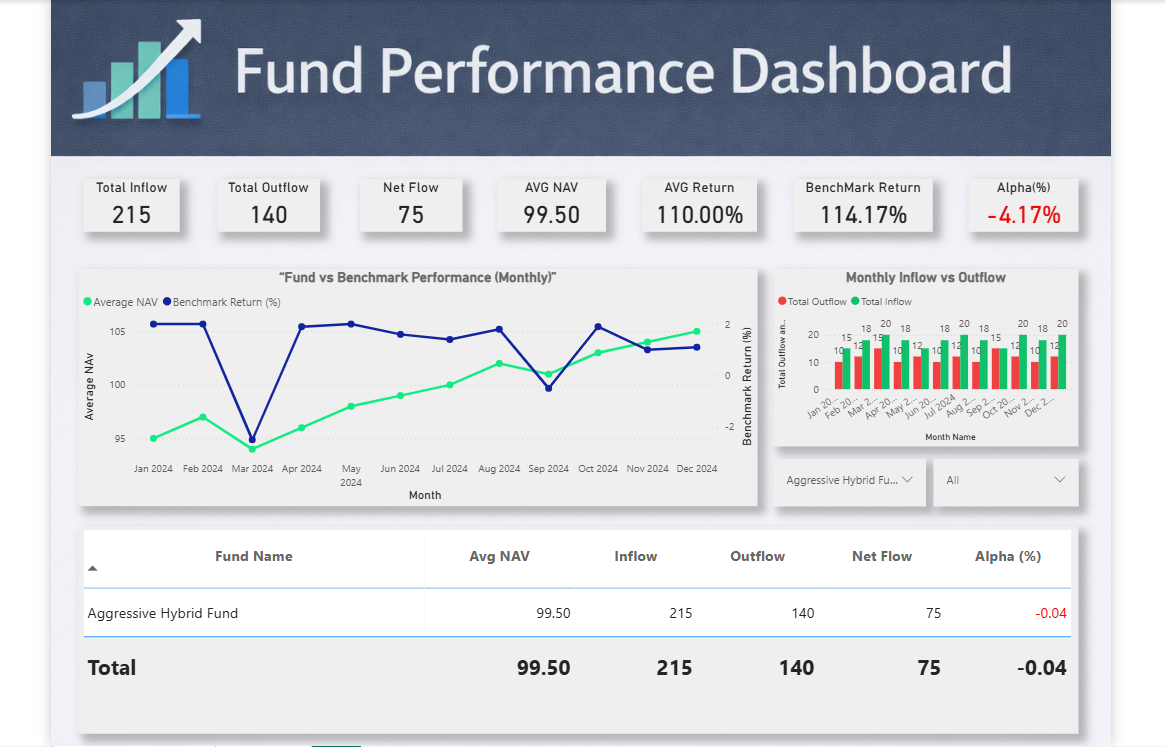

This screenshot's page, from the dashboard's own definition file:
{"tool":"powerbi","page":{"name":"Fund Dashboard","canvas":[1280,900],"ordinal":0},"visuals":[{"type":"card","title":"Total Inflow","fields":{"Values":["All_Measures.Total Inflow"]},"box":[38.8,216.4,116.2,63.8],"z":0},{"type":"card","title":"Total Outflow","fields":{"Values":["All_Measures.Total Outflow"]},"box":[201.3,216.4,123.8,63.8],"z":1000},{"type":"card","title":"Net Flow","fields":{"Values":["All_Measures.Net Flow"]},"box":[372.5,216.4,123.8,63.8],"z":2000},{"type":"card","title":"AVG NAV","fields":{"Values":["All_Measures.Average NAV"]},"box":[538.9,216.4,131.1,64.1],"z":3000},{"type":"card","title":"AVG Return","fields":{"Values":["All_Measures.Average Return (%)"]},"box":[713.5,216.4,138.3,64.1],"z":4000},{"type":"card","title":"BenchMark Return","fields":{"Values":["All_Measures.Benchmark Return (%)"]},"box":[895.2,216.4,168.2,64.1],"z":5000},{"type":"card","title":"Alpha(%)","fields":{"Values":["All_Measures.Alpha (%)"]},"box":[1106.9,216.4,132.6,64.1],"z":6000},{"type":"lineChart","title":"“Fund vs Benchmark Performance (Monthly)”","fields":{"Y":["All_Measures.Average NAV"],"Y2":["All_Measures.Benchmark Return (%)"],"Category":["DateTable.Month Name"]},"box":[33.2,324.2,818.9,286.5],"z":7000},{"type":"clusteredColumnChart","title":"Monthly Inflow vs Outflow","fields":{"Category":["DateTable.Month Name"],"Y":["All_Measures.Total Outflow","All_Measures.Total Inflow"]},"box":[871.7,324.2,368,214.1],"z":8000},{"type":"tableEx","fields":{"Values":["Funds.fund_name","All_Measures.Average NAV","All_Measures.Total Inflow","All_Measures.Total Outflow","All_Measures.Net Flow","All_Measures.Alpha (%)"]},"box":[33.2,634.9,1206.4,250.3],"z":9000},{"type":"slicer","fields":{"Values":["Funds.fund_name"]},"box":[871.7,553.5,184,57.3],"z":9001},{"type":"slicer","fields":{"Values":["DateTable.Month Name"]},"box":[1064.7,553.5,174.9,57.3],"z":9002}]}

Visuals, with their boxes on the page's 1280x900 design canvas (x1, y1, x2, y2). These are canvas units, not pixel positions in the 1165x747 screenshot, which may show the page scaled, cropped or inside an application window:
"Total Inflow" card: [39,216,155,280]
"Total Outflow" card: [201,216,325,280]
"Net Flow" card: [372,216,496,280]
"AVG NAV" card: [539,216,670,280]
"AVG Return" card: [714,216,852,280]
"BenchMark Return" card: [895,216,1063,280]
"Alpha(%)" card: [1107,216,1240,280]
"“Fund vs Benchmark Performance (Monthly)”" lineChart: [33,324,852,611]
"Monthly Inflow vs Outflow" clusteredColumnChart: [872,324,1240,538]
tableEx - Funds.fund_name x All_Measures.Average NAV: [33,635,1240,885]
slicer - Funds.fund_name: [872,554,1056,611]
slicer - DateTable.Month Name: [1065,554,1240,611]
